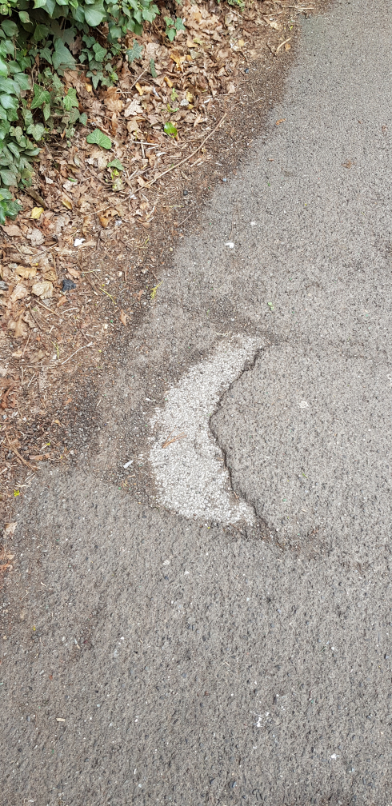pothole: (138, 326, 287, 545)
